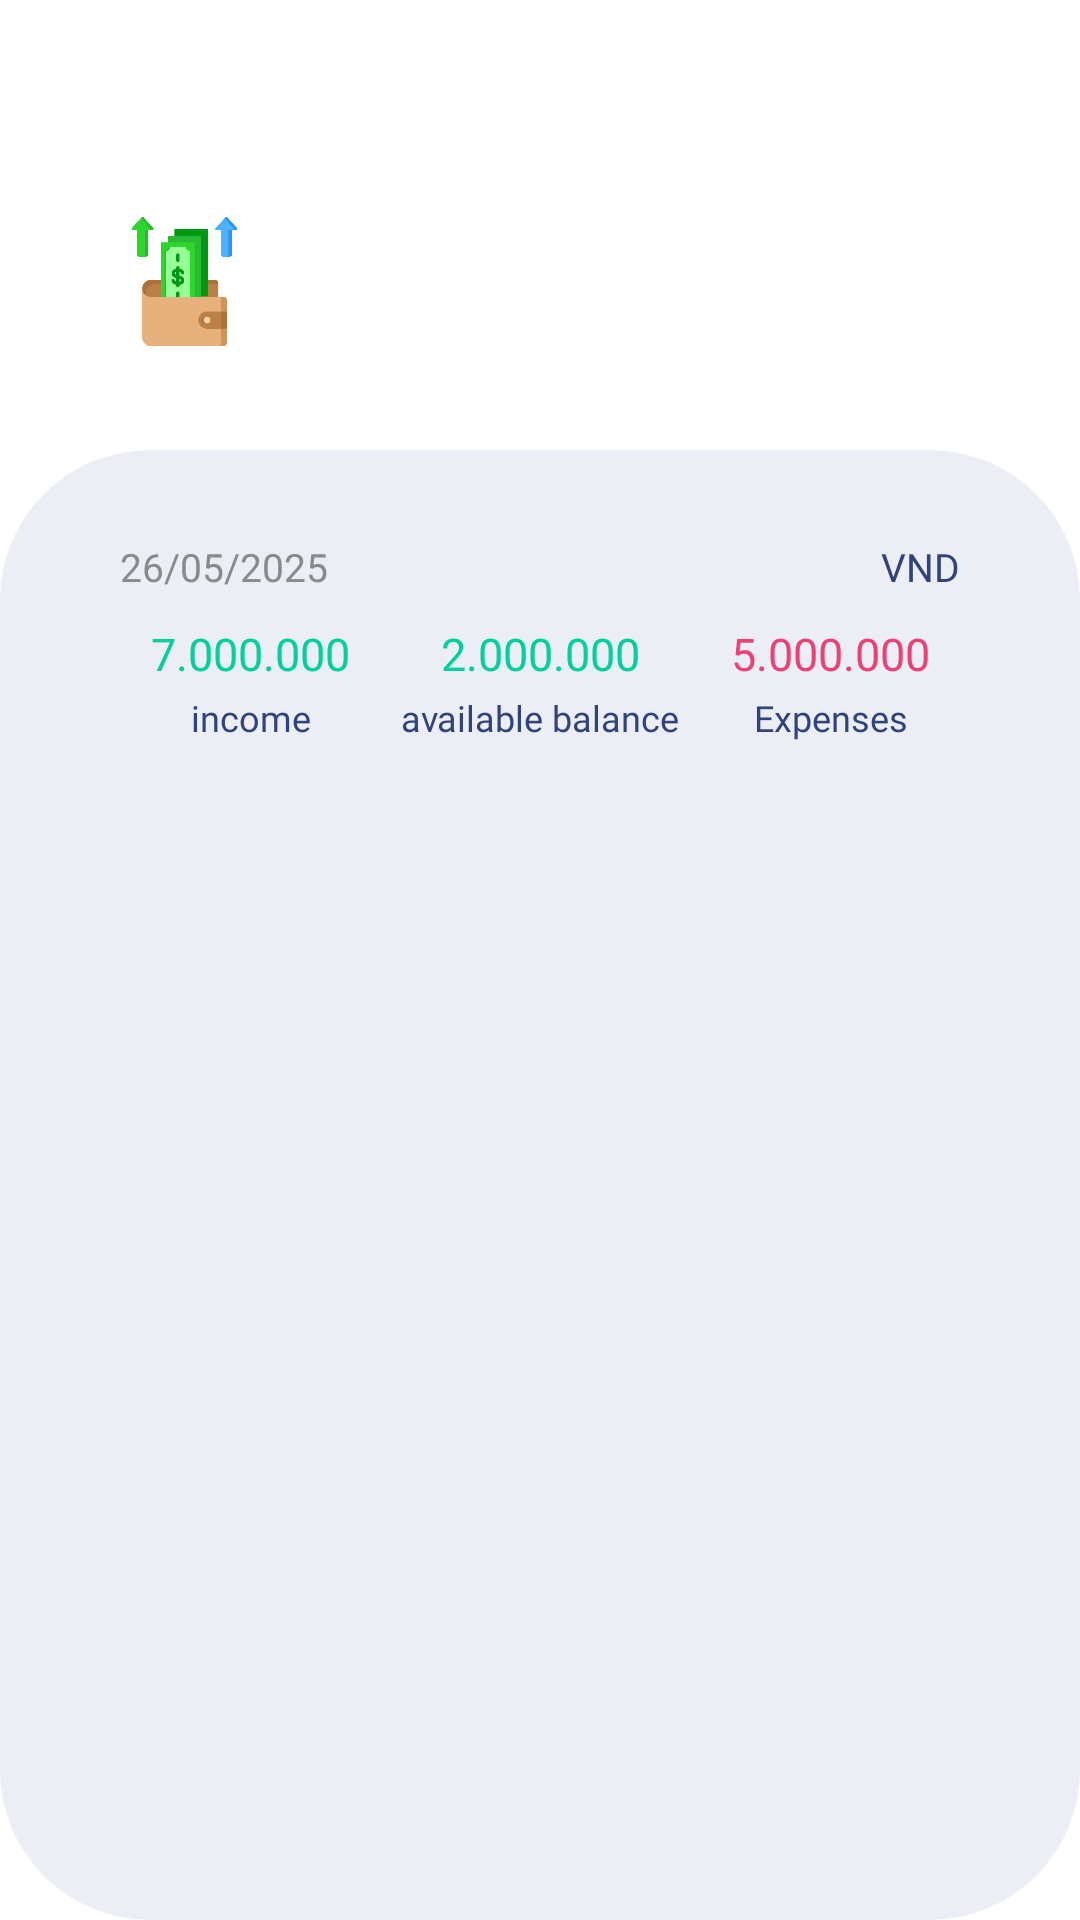

Where to tap for icons on this 1080×1920 app screen, as (x,y):
expenditure: (184,281)
